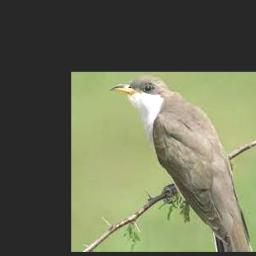Cuckoo: (111, 76, 254, 252)
